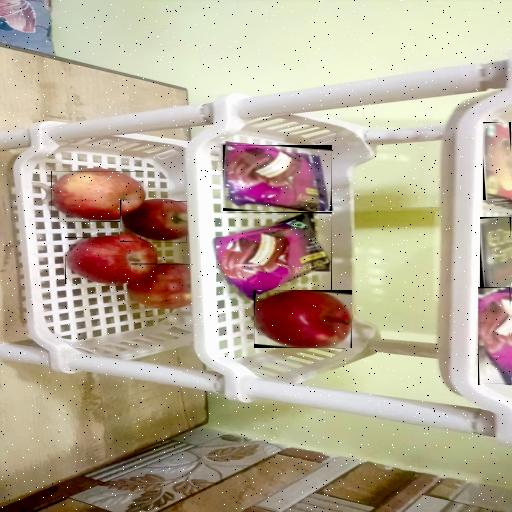Apple: (254, 290, 352, 348), (51, 171, 144, 222), (65, 238, 157, 286), (120, 202, 187, 244), (131, 264, 193, 309)
Choco Fills: (481, 217, 511, 294), (483, 122, 511, 200)
Choco Pie: (216, 212, 332, 300), (223, 145, 332, 211), (478, 288, 510, 384), (478, 291, 510, 385)
